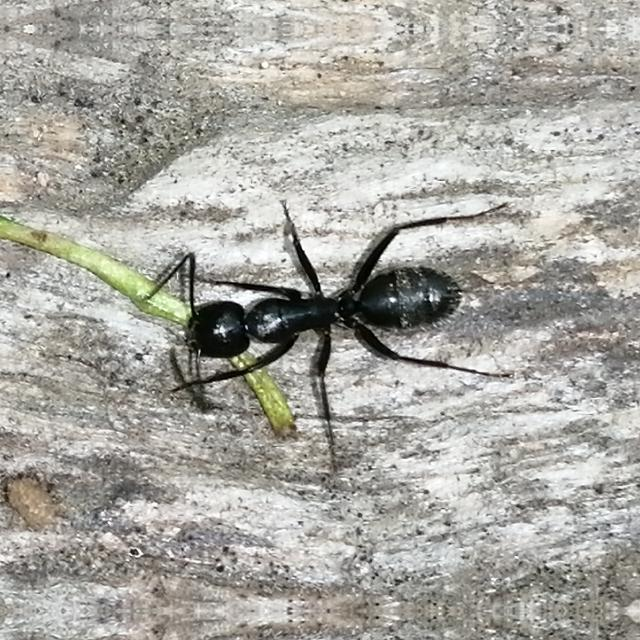Camponotus: (147, 214, 497, 410)
